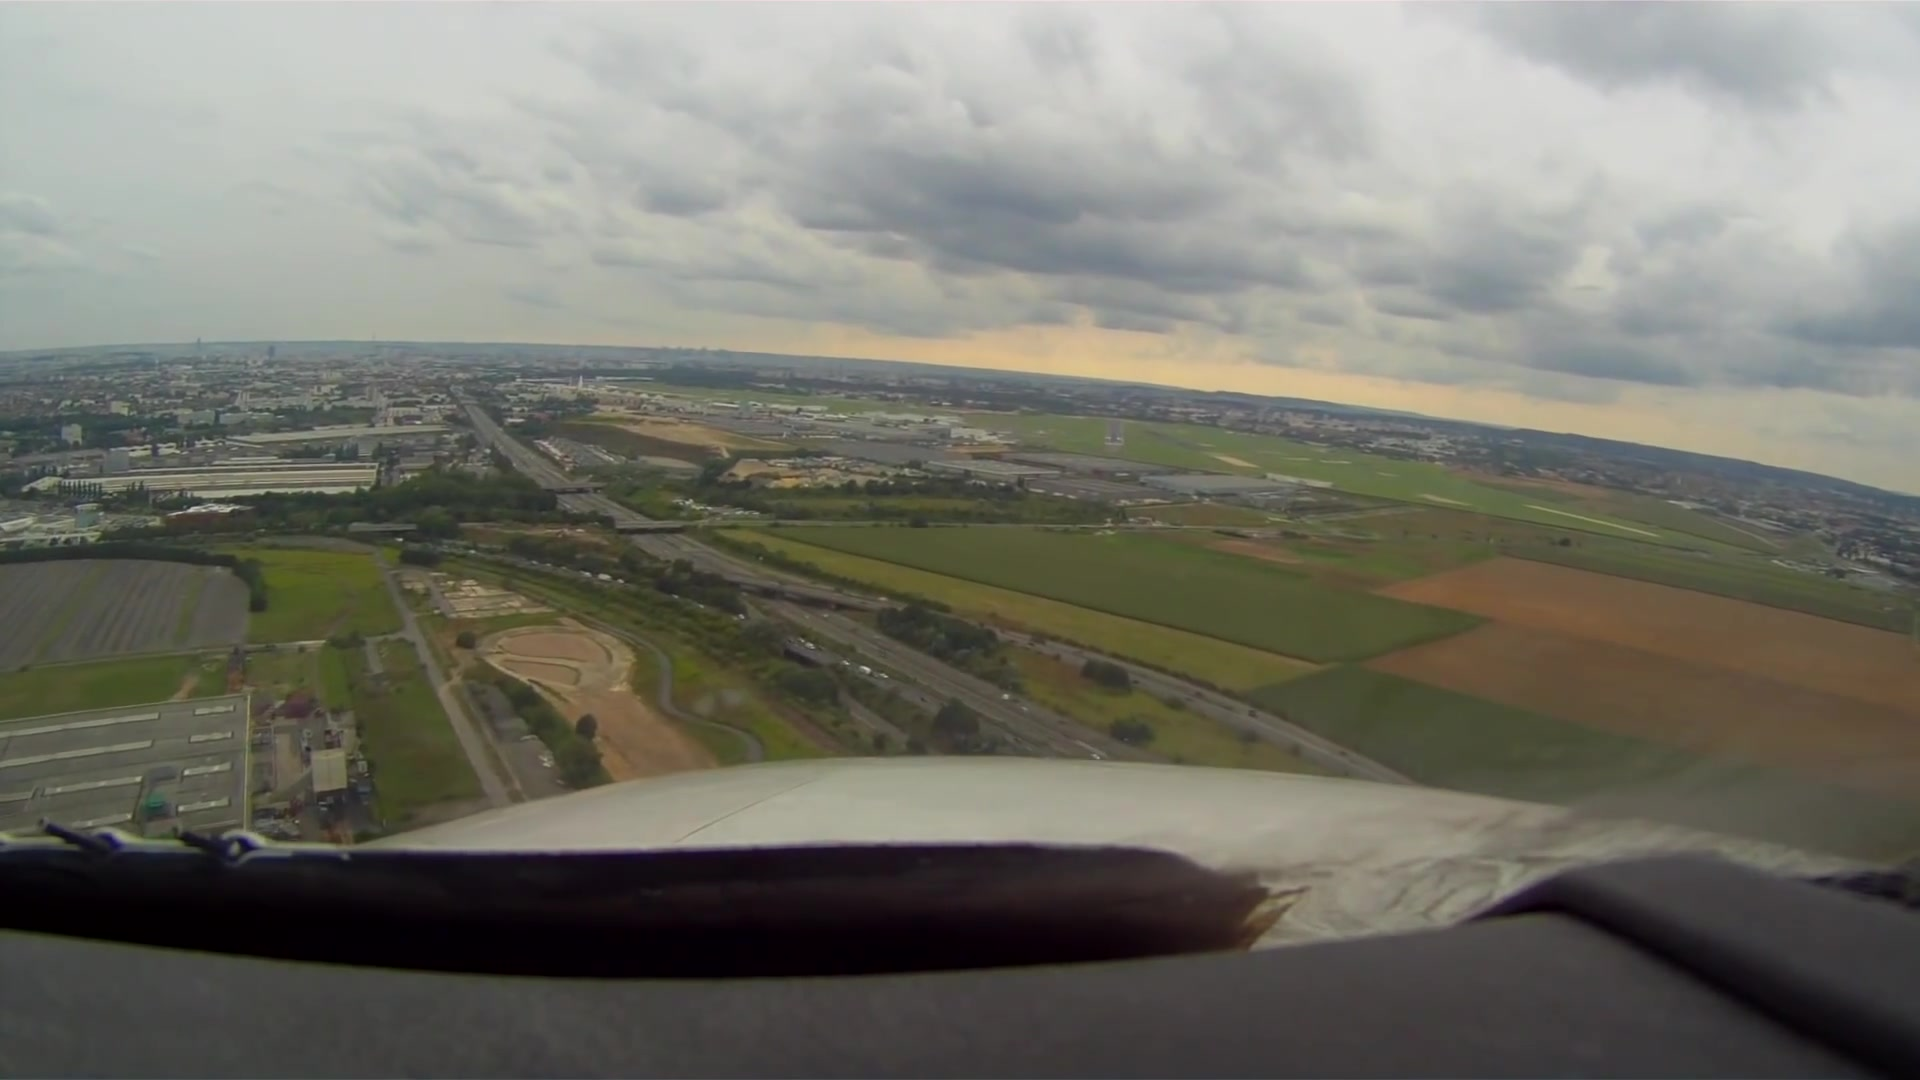runway: (1101, 417, 1129, 448)
